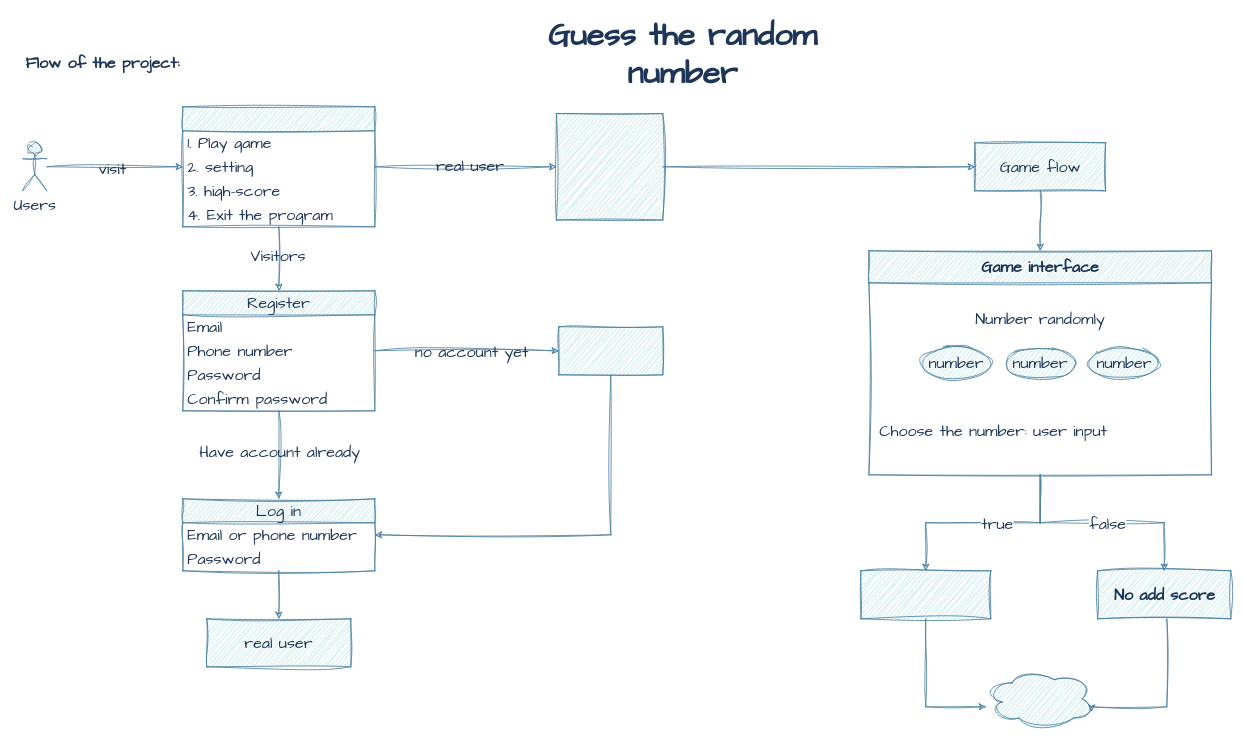
This 1245x745 diagram has some shape labels left out. The box of each missing label's shape, as (x1, y1, x2, y2) in pixels:
Home interface: (182, 106, 375, 227)
PLay game: (556, 113, 663, 220)
Registered: (558, 326, 663, 375)
save: (983, 666, 1096, 731)
score ++: (860, 570, 991, 619)
